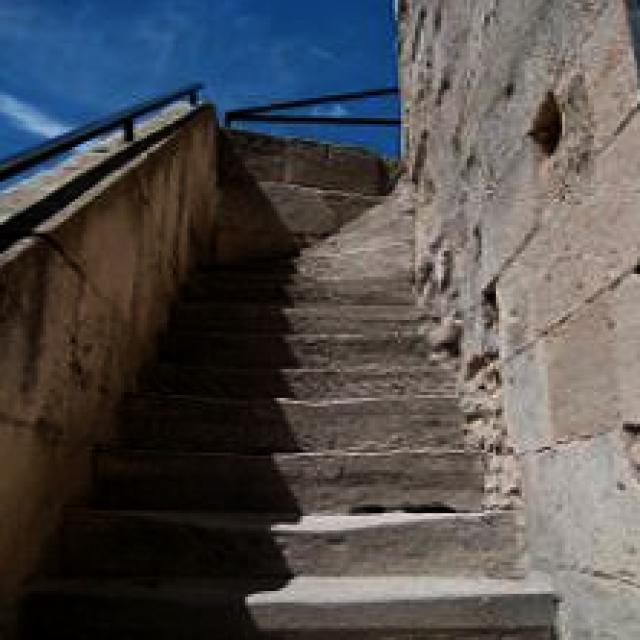upstair: (76, 243, 508, 635)
